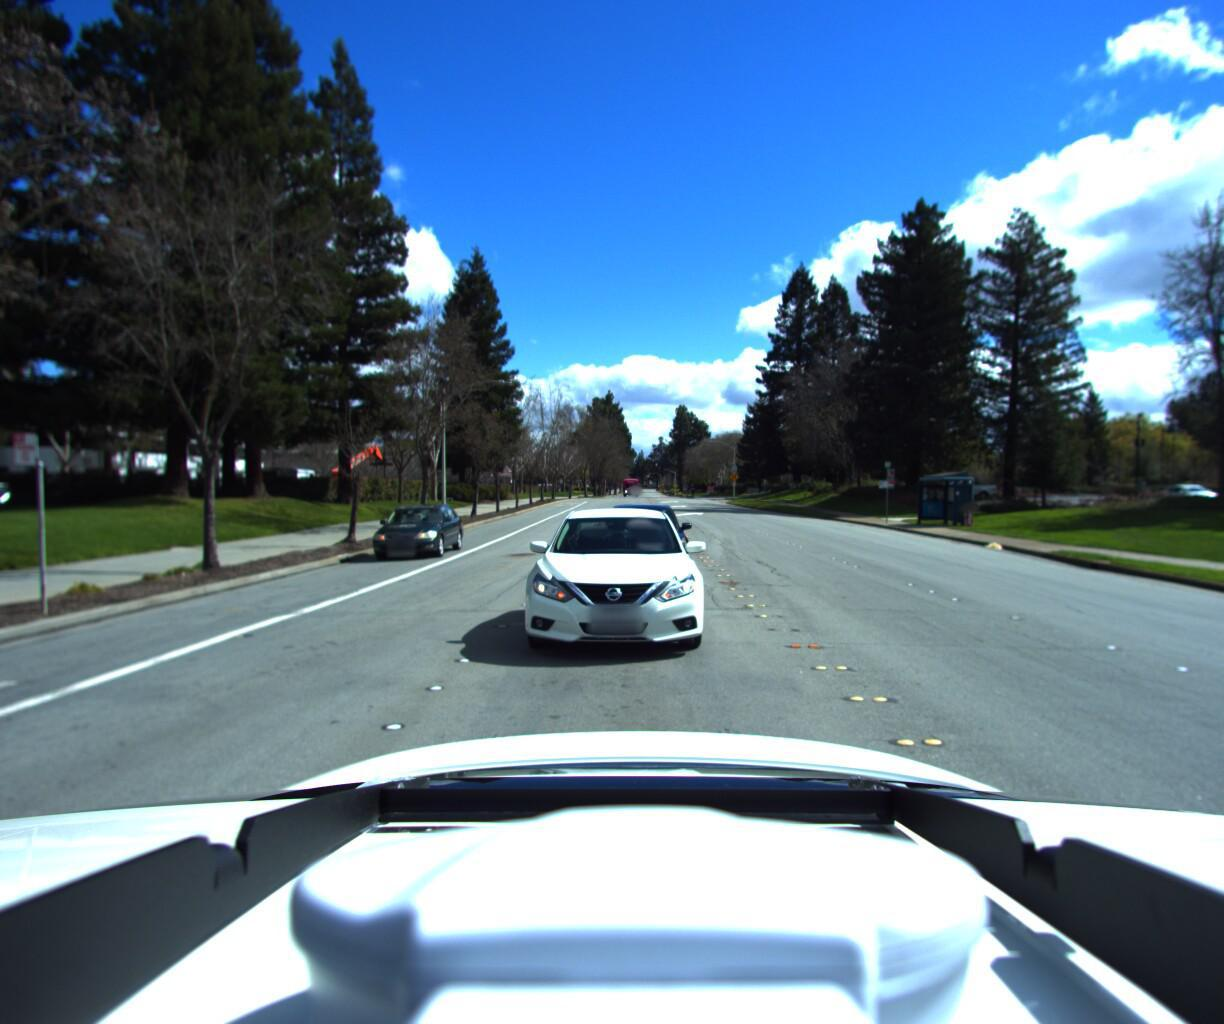car: (507, 506, 709, 676), (586, 501, 691, 586), (364, 510, 469, 570)
